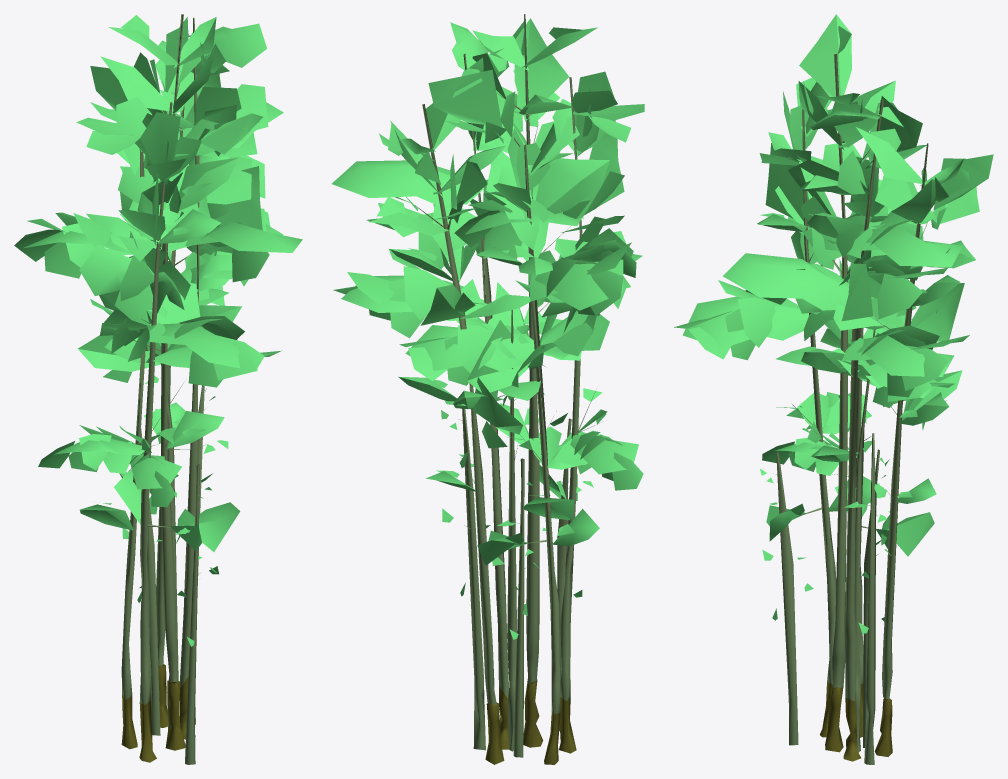
The model's file is Bamboo_Cluster2_LOD1.fbx.
The picture shows the model from 3 angles, left to right: view 1: azimuth 30°, elevation 25°; view 2: azimuth 150°, elevation 25°; view 3: azimuth 270°, elevation 25°; orthographic projection. The views are drawn at different scales.
Parts seen in each view (by area): view 1: Bamboo_Cluster2_LOD1; view 2: Bamboo_Cluster2_LOD1; view 3: Bamboo_Cluster2_LOD1.
Boxes of the visible parts, left/top/right/bottom form: Bamboo_Cluster2_LOD1: left=14, top=14, right=302, bottom=764; Bamboo_Cluster2_LOD1: left=331, top=14, right=644, bottom=764; Bamboo_Cluster2_LOD1: left=674, top=14, right=993, bottom=764.
Size of the model in its own units: 939 by 2440 by 1005.
